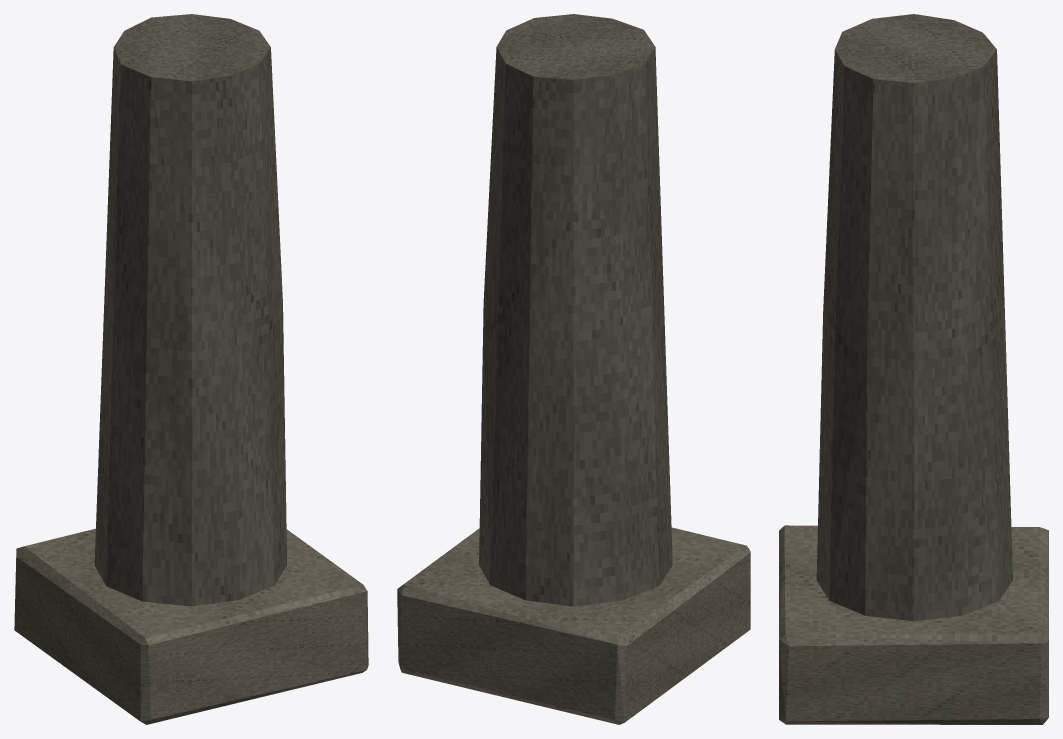
Rendered from env_ruin_pillars_07_round_broken.glb.
The picture shows the model from 3 angles, left to right: view 1: azimuth 30°, elevation 25°; view 2: azimuth 150°, elevation 25°; view 3: azimuth 270°, elevation 25°; orthographic projection. The views are drawn at different scales.
Size of the model in its own units: 0.65 by 1.65 by 0.65.
1 material, 1 textured.
